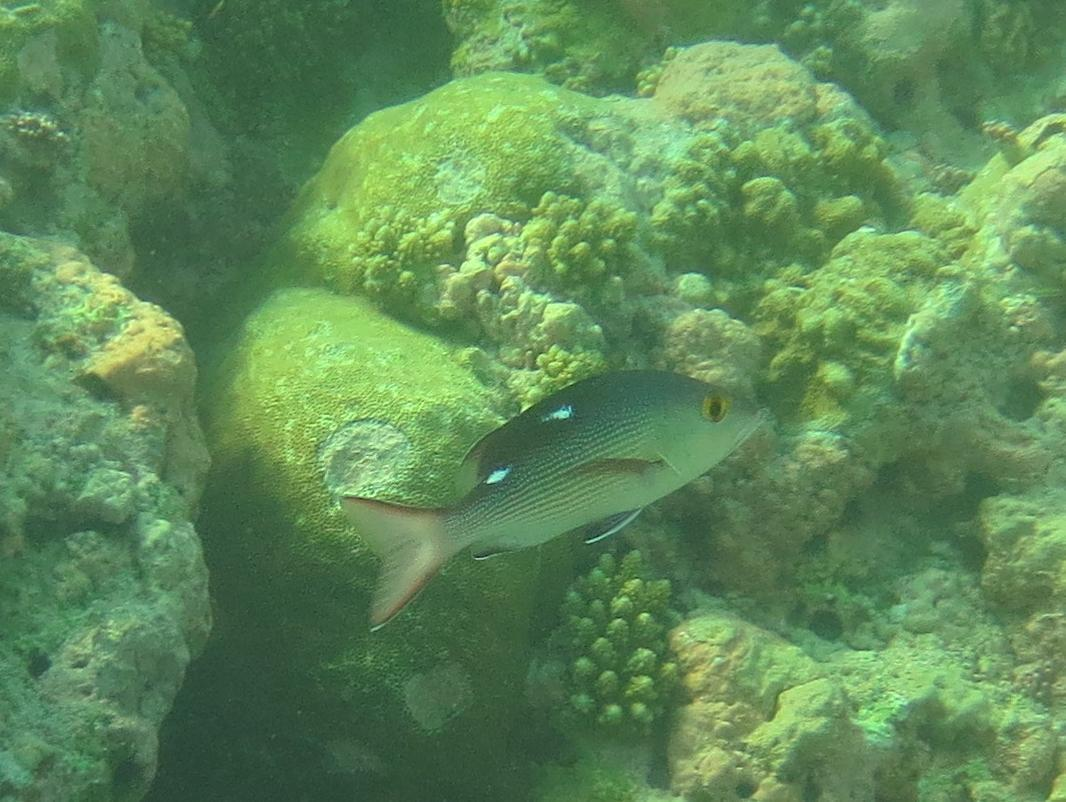Fish: (327, 355, 777, 635)
